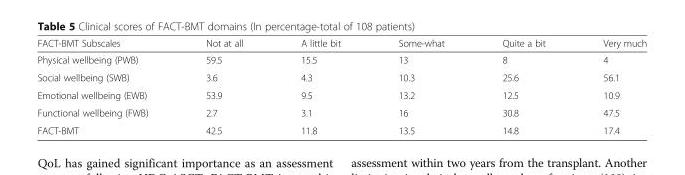table: (36, 37, 646, 135)
table column: (36, 37, 176, 135), (368, 37, 472, 135), (472, 37, 573, 135), (271, 37, 368, 135), (176, 37, 271, 135), (573, 37, 646, 135)
table column header: (36, 37, 646, 51)
table row: (36, 85, 646, 103), (36, 103, 646, 121), (36, 51, 646, 68), (36, 68, 646, 85), (36, 37, 646, 51), (36, 121, 646, 135)
